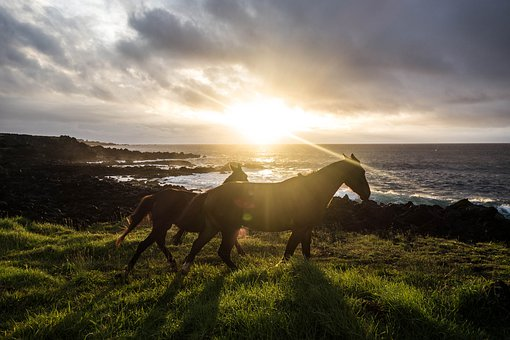field: (11, 221, 510, 339)
sky: (2, 2, 510, 148)
